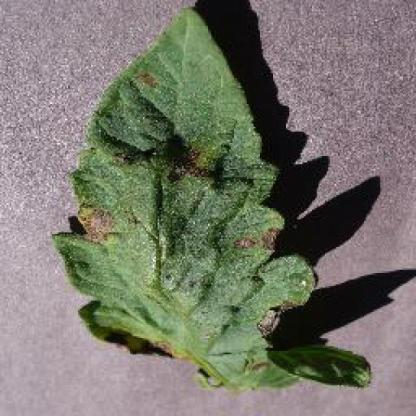Tomato_Blight: (53, 6, 370, 386)
